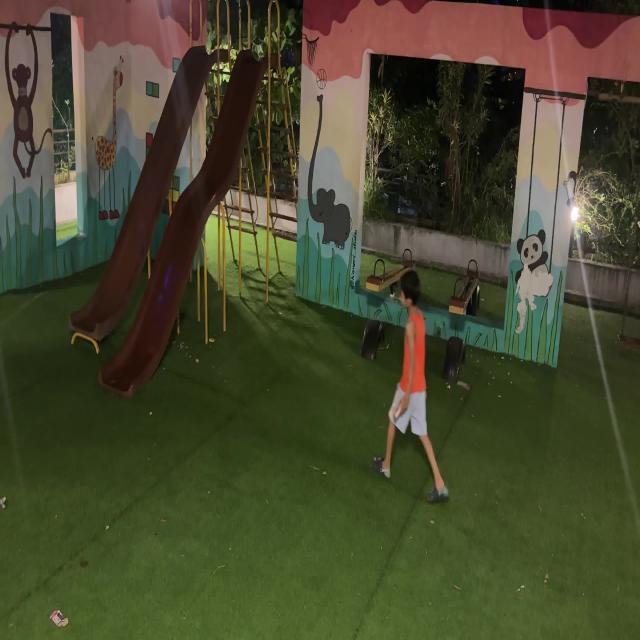human: (372, 264, 456, 506)
trash: (388, 390, 408, 424)
